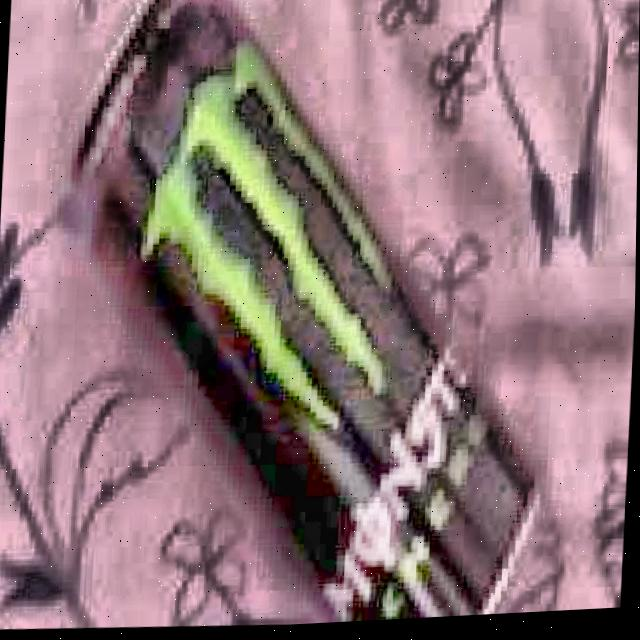metal: (69, 0, 544, 627)
